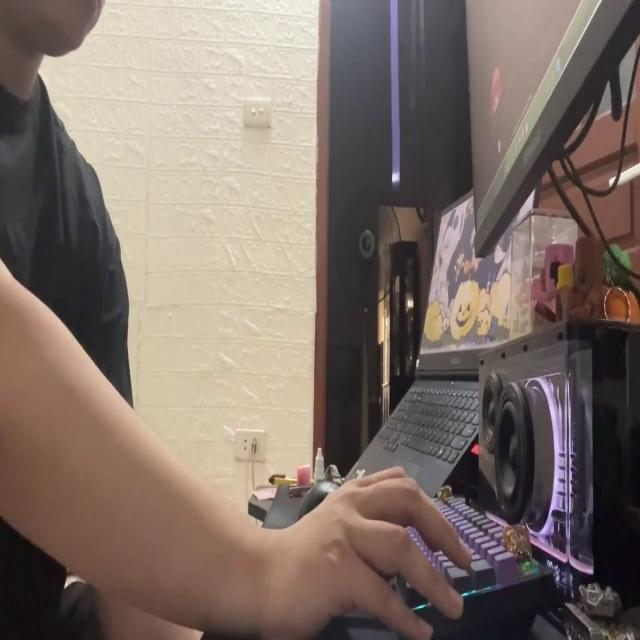laptop: (333, 167, 545, 507), (460, 0, 640, 258)
student: (1, 0, 473, 640)
